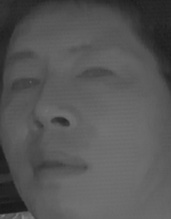eye: (76, 61, 116, 87), (8, 70, 41, 95)
mouth: (28, 147, 91, 186)
